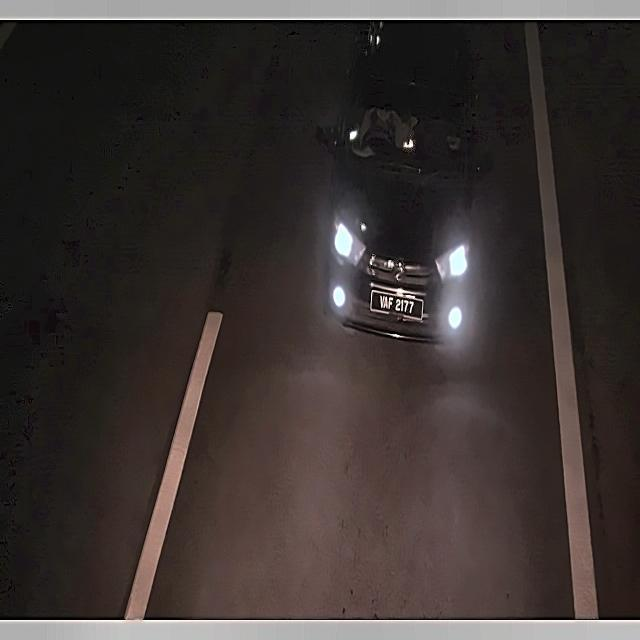car: (368, 285, 427, 324)
